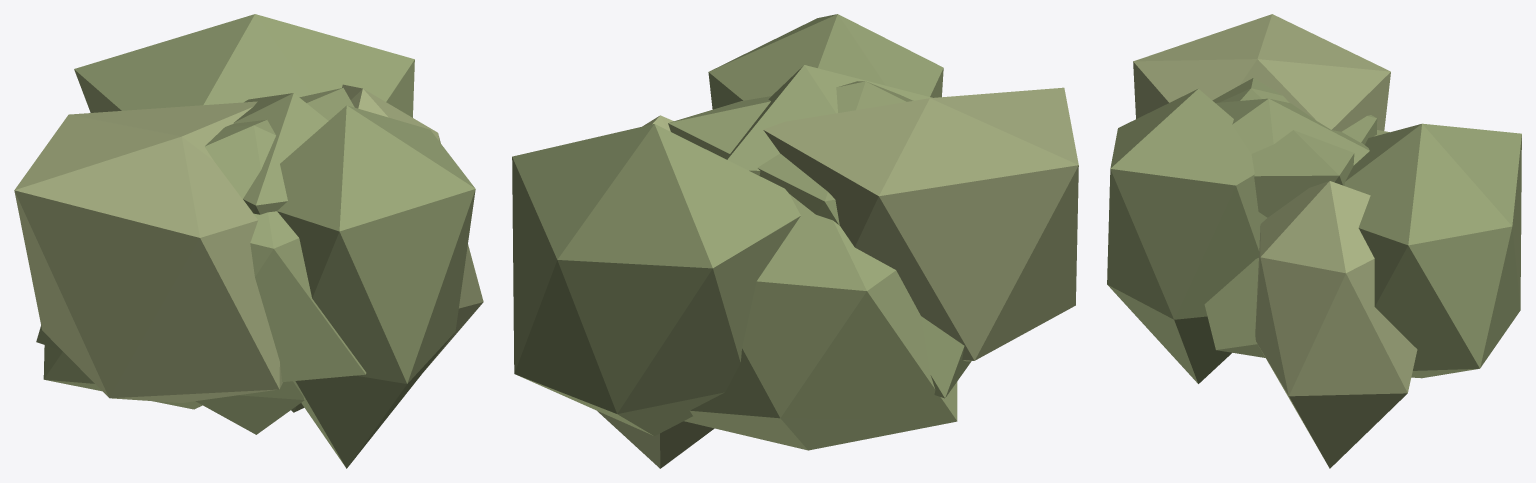
File: Creosote.glb
3 renders of one model, left to right at view 1: azimuth 30°, elevation 25°; view 2: azimuth 150°, elevation 25°; view 3: azimuth 270°, elevation 25°, orthographic. The views are drawn at different scales.
Parts seen in each view (by area): view 1: Shrub clump.032, Shrub clump.031, Shrub clump.034, Shrub clump.033, Shrub clump.038, Shrub clump.036, Shrub clump.037, Shrub clump.035; view 2: Shrub clump.034, Shrub clump.032, Shrub clump.035, Shrub clump.031, Shrub clump.033, Shrub clump.038, Shrub clump.037; view 3: Shrub clump.034, Shrub clump.031, Shrub clump.037, Shrub clump.032, Shrub clump.038, Shrub clump.033.
Part boxes in pixels (bbox=[...]): Shrub clump.032: bbox=[14, 101, 282, 402]; Shrub clump.031: bbox=[277, 105, 475, 468]; Shrub clump.034: bbox=[74, 14, 414, 117]; Shrub clump.033: bbox=[36, 87, 366, 381]; Shrub clump.038: bbox=[233, 93, 328, 412]; Shrub clump.036: bbox=[195, 381, 305, 434]; Shrub clump.037: bbox=[342, 84, 483, 369]; Shrub clump.035: bbox=[43, 345, 202, 409]; Shrub clump.034: bbox=[512, 124, 800, 435]; Shrub clump.032: bbox=[763, 87, 1078, 361]; Shrub clump.035: bbox=[684, 194, 957, 450]; Shrub clump.031: bbox=[708, 14, 943, 109]; Shrub clump.033: bbox=[668, 81, 971, 398]; Shrub clump.038: bbox=[725, 65, 932, 175]; Shrub clump.037: bbox=[597, 115, 714, 468]; Shrub clump.034: bbox=[1344, 123, 1521, 378]; Shrub clump.031: bbox=[1107, 88, 1259, 383]; Shrub clump.037: bbox=[1255, 181, 1417, 468]; Shrub clump.032: bbox=[1133, 14, 1390, 131]; Shrub clump.038: bbox=[1204, 98, 1369, 357]; Shrub clump.033: bbox=[1212, 78, 1377, 217].
Size of the model in its own units: 1.7 by 1.41 by 1.55.
